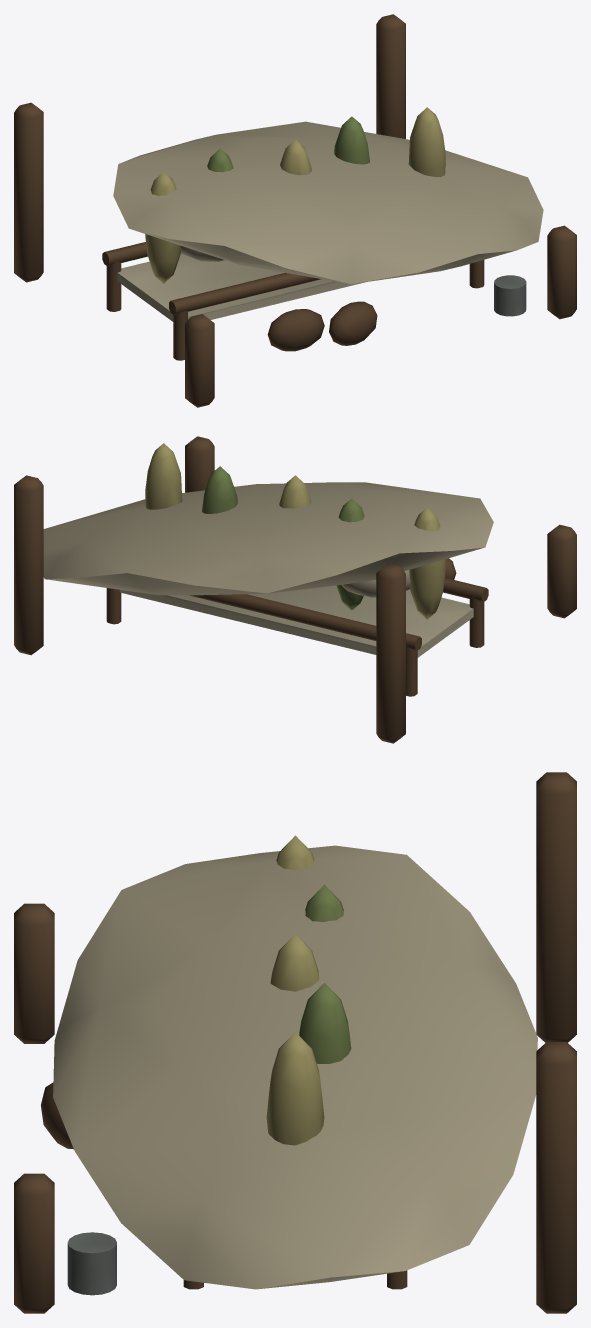
The model's file is bunk_cots_c.glb.
3 renders of one model, top to bottom at view 1: azimuth 30°, elevation 25°; view 2: azimuth 150°, elevation 25°; view 3: azimuth 270°, elevation 25°, orthographic. The views are drawn at different scales.
Parts seen in each view (by area): view 1: Surface; view 2: Surface; view 3: Surface.
Boxes of the visible parts, x1,y1,x2,y2 form: Surface: (14,14,576,407); Surface: (14,436,576,743); Surface: (14,772,576,1313).
Bounding box in the file's own units: 2.65 × 1 × 1.94.
